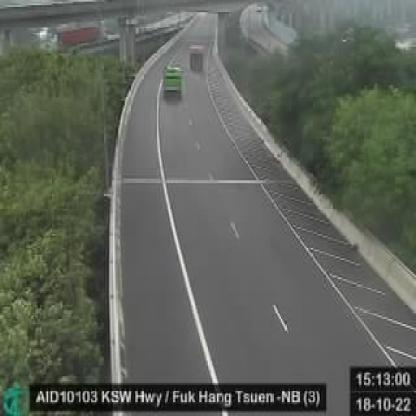Truck: (162, 65, 184, 102)
